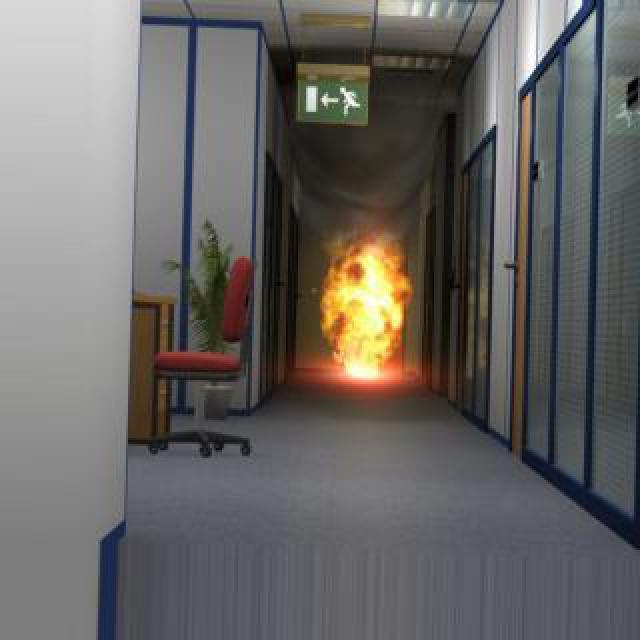Fire: (306, 220, 412, 382)
